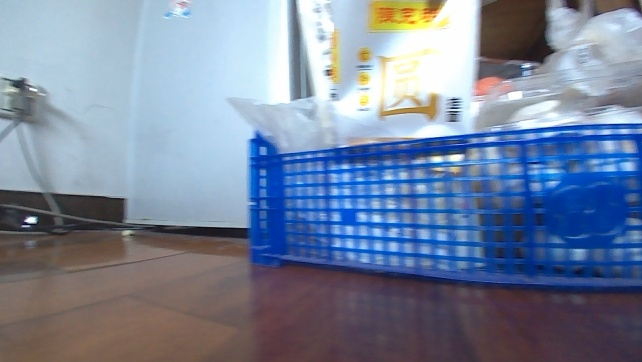refrigerator1: (120, 0, 312, 234)
wire: (0, 113, 146, 238)
